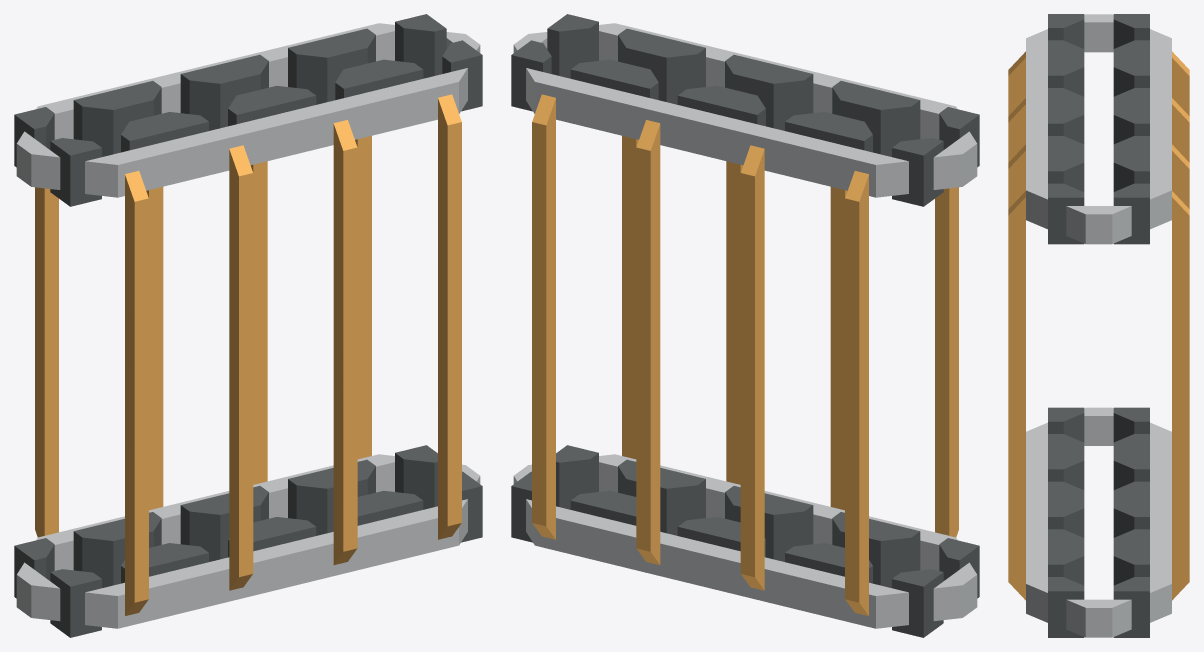
The model's file is Missile_box_002.fbx.
The picture shows the model from 3 angles, left to right: view 1: azimuth 30°, elevation 25°; view 2: azimuth 150°, elevation 25°; view 3: azimuth 270°, elevation 25°; orthographic projection. The views are drawn at different scales.
Visible parts, largest first — view 1: Missile_box_002; view 2: Missile_box_002; view 3: Missile_box_002.
Part boxes in pixels (left/top/right/bottom): Missile_box_002: left=14, top=14, right=482, bottom=637; Missile_box_002: left=511, top=14, right=979, bottom=637; Missile_box_002: left=1008, top=14, right=1189, bottom=637.
Size of the model in its own units: 81.13 by 31.14 by 83.28.
